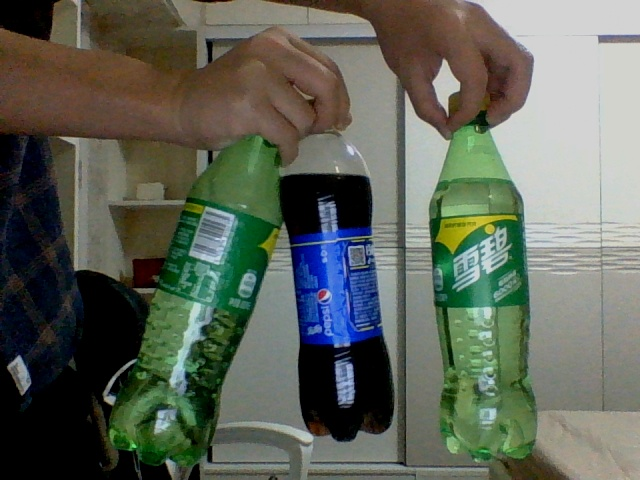Cola: (280, 130, 396, 437)
Sprite: (108, 137, 283, 466), (427, 92, 538, 463)
